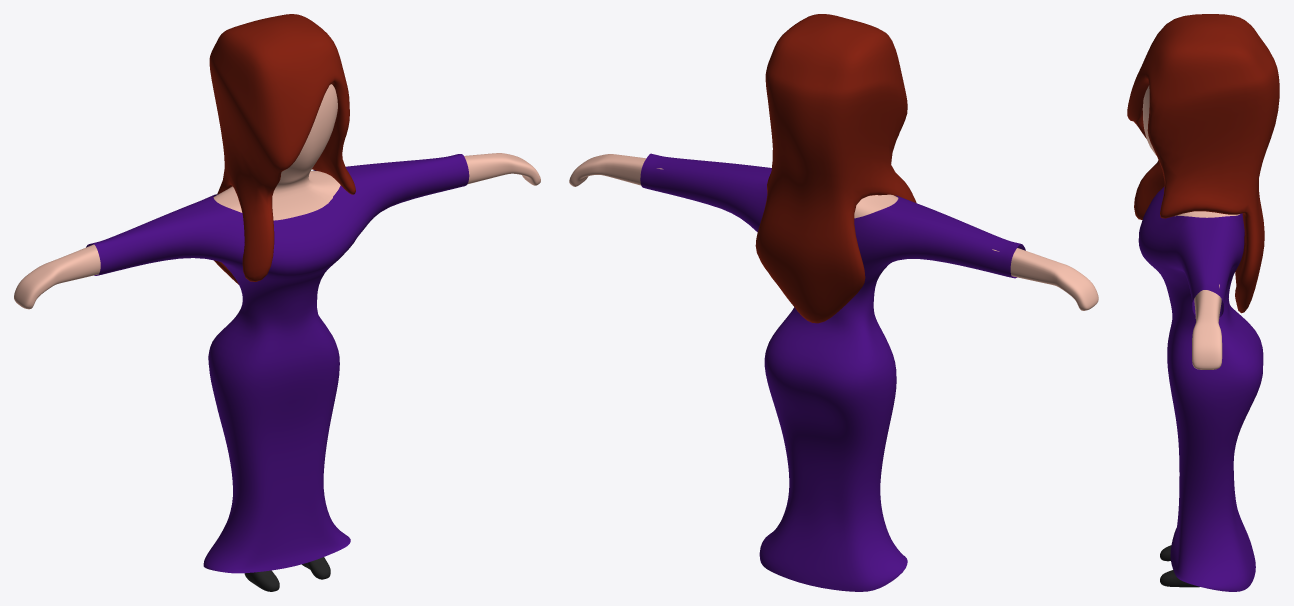
Rendered from portia.fbx.
3 views of the same model, side by side, from view 1: azimuth 30°, elevation 25°; view 2: azimuth 150°, elevation 25°; view 3: azimuth 270°, elevation 25° (orthographic).
Visible parts, largest first — view 1: Portia; view 2: Portia; view 3: Portia.
Part boxes in pixels (<box>): Portia: <box>14,14,540,591</box>; Portia: <box>569,14,1098,591</box>; Portia: <box>1127,14,1279,591</box>.
Bounding box in the file's own units: 2157 × 2172 × 548.
